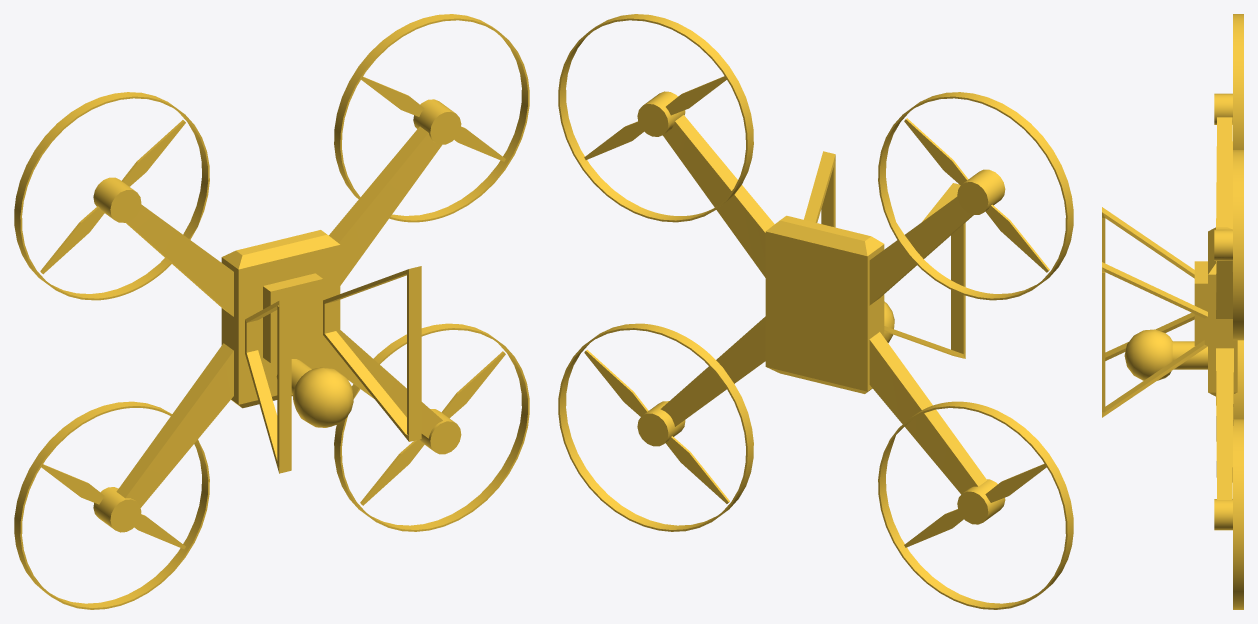
Rendered from onedrone2.fbx.
The picture shows the model from 3 angles, left to right: view 1: azimuth 30°, elevation 25°; view 2: azimuth 150°, elevation 25°; view 3: azimuth 270°, elevation 25°; orthographic projection. The views are drawn at different scales.
Visible parts, largest first — view 1: lowploy; view 2: lowploy; view 3: lowploy.
Part boxes in pixels (box(x1,y1,x2,y2)): lowploy: box(14, 14, 529, 609); lowploy: box(558, 14, 1073, 609); lowploy: box(1102, 14, 1243, 609).
Size of the model in its own units: 0.3016 by 0.0836 by 0.2874.
